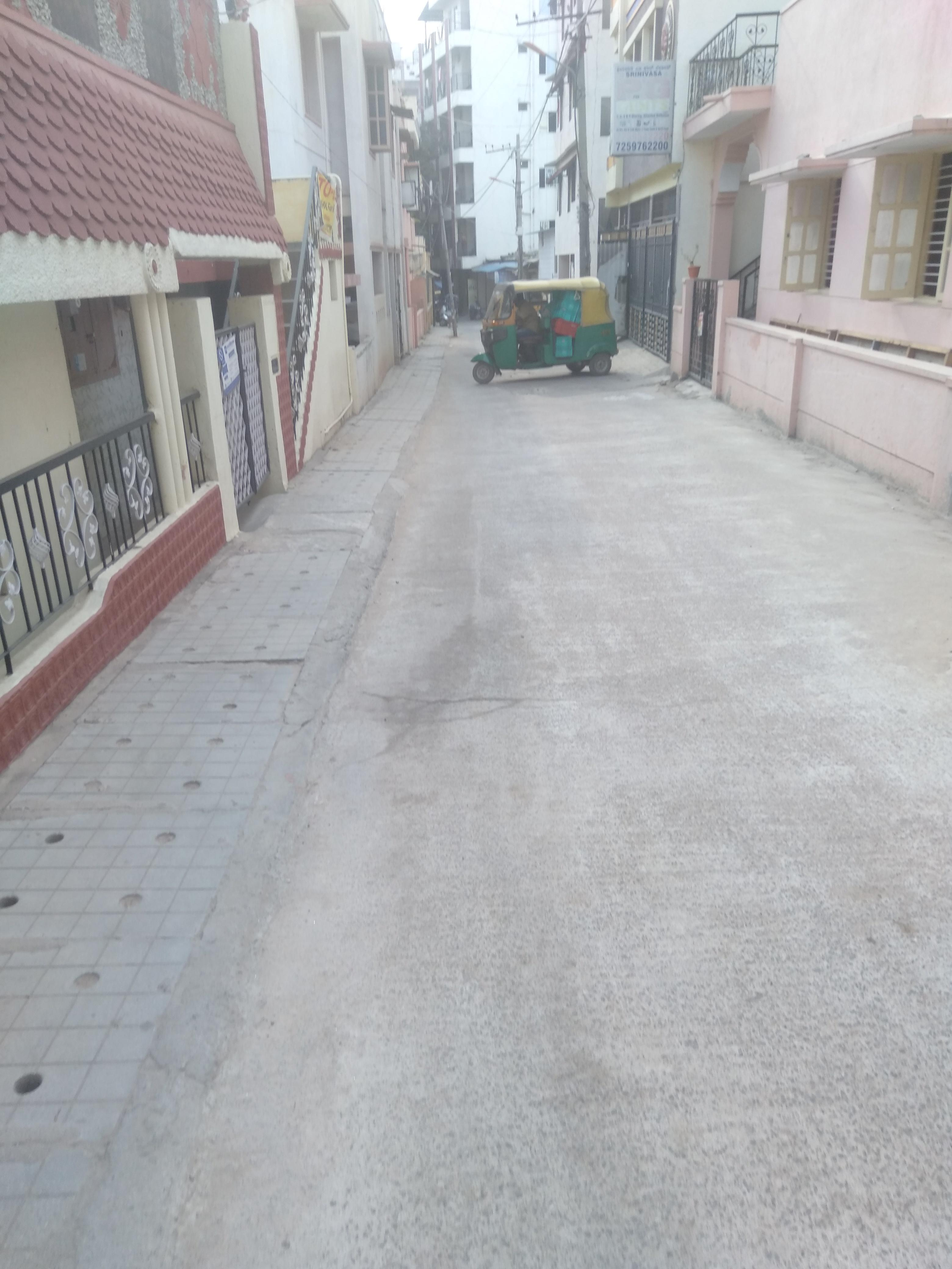Non-emergency: (450, 240, 647, 433)
